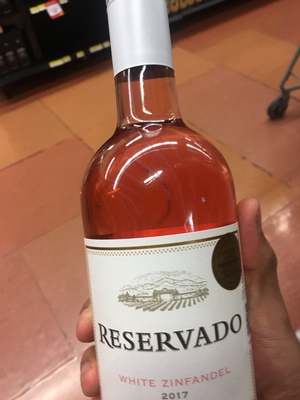reservado white zinfandel: (74, 6, 261, 399)
